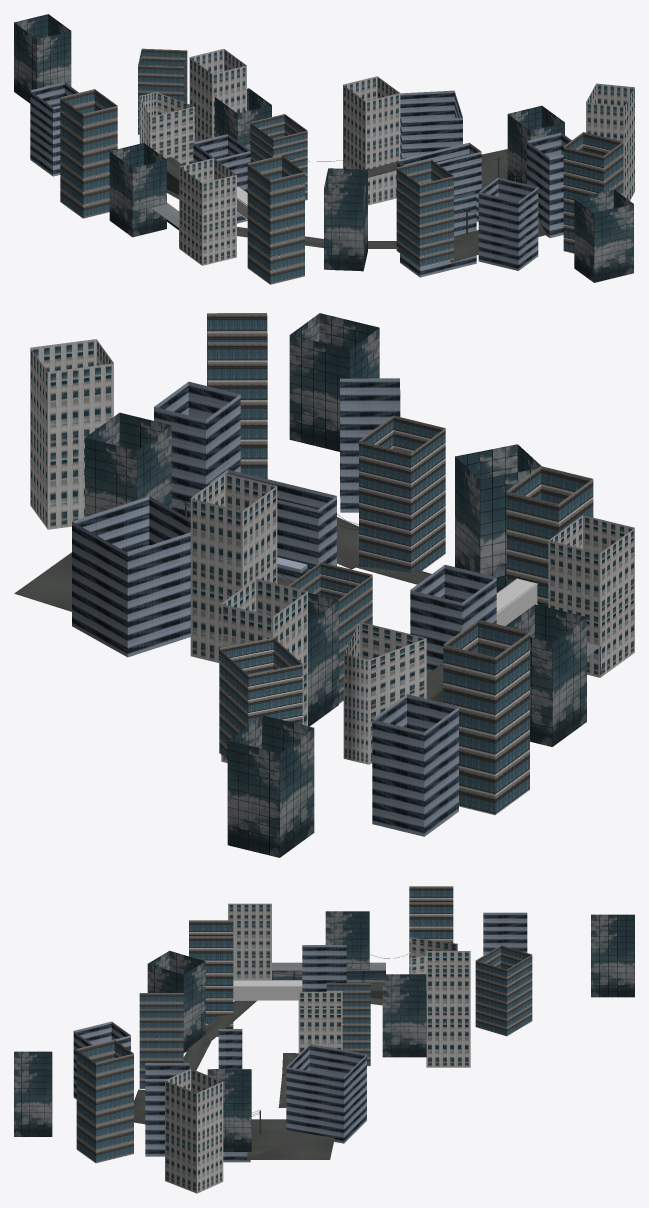
Rendered from skyscrapers.obj.
3 views of the same model, one above another, from view 1: azimuth 30°, elevation 25°; view 2: azimuth 150°, elevation 25°; view 3: azimuth 270°, elevation 25° (orthographic). The views are drawn at different scales.
Visible parts, largest first — view 1: upright, sklo, white, bottomright, flats; view 2: upright, bottomright, white, sklo, flats, ungrouped; view 3: upright, sklo, white, bottomright, flats, ungrouped.
Part boxes in pixels (x1,y1,x2,y2): upright: (60, 48, 623, 284); sklo: (14, 14, 633, 282); white: (139, 49, 634, 265); bottomright: (30, 82, 571, 277); flats: (151, 149, 547, 262); upright: (207, 313, 593, 815); bottomright: (72, 378, 496, 836); white: (30, 339, 634, 764); sklo: (85, 313, 601, 857); flats: (14, 517, 600, 702); ungrouped: (496, 578, 537, 625); upright: (76, 886, 532, 1163); sklo: (14, 911, 634, 1151); white: (165, 903, 470, 1193); bottomright: (73, 912, 527, 1162); flats: (134, 962, 385, 1159); ungrouped: (233, 980, 302, 1000).
Size of the model in its own units: 221 by 69.66 by 281.
Materials: 1 (1 with a texture image).
